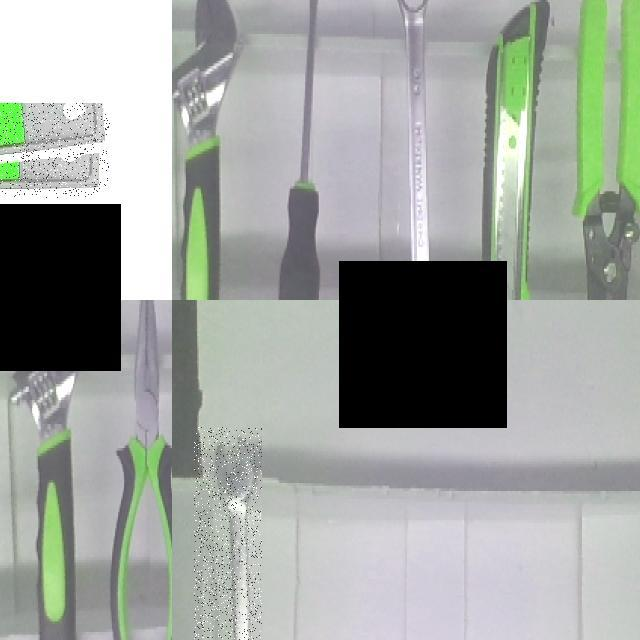estilete: (483, 0, 549, 299)
